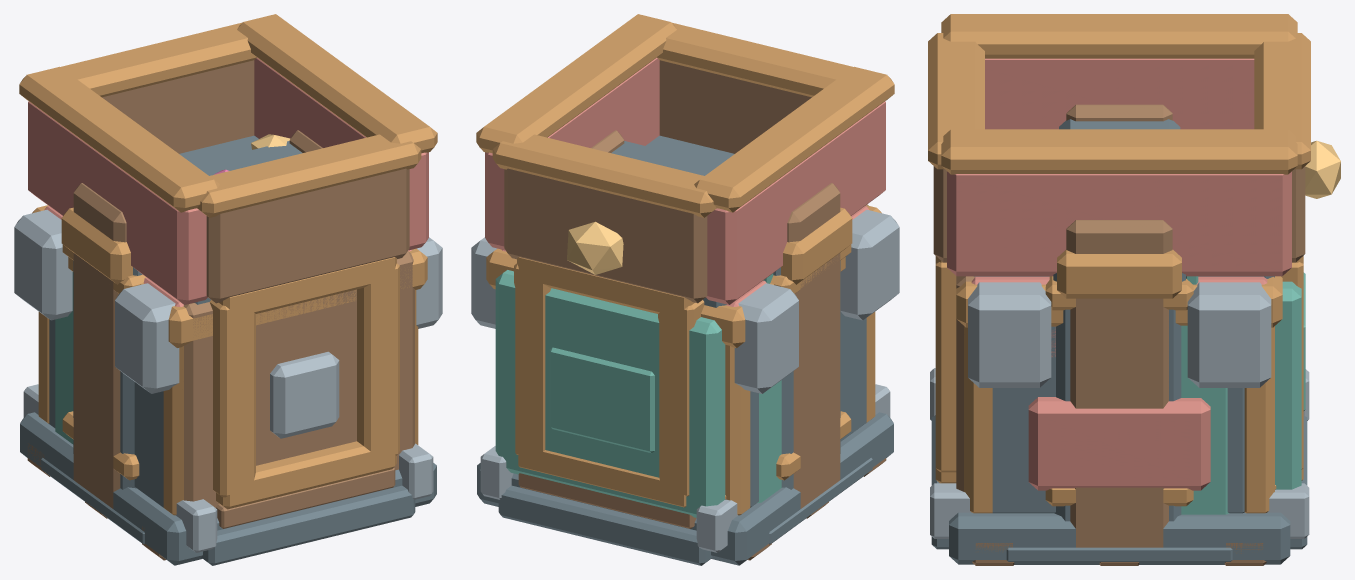
File: sandbox-machinery.glb
3 renders of one model, left to right at view 1: azimuth 30°, elevation 25°; view 2: azimuth 150°, elevation 25°; view 3: azimuth 270°, elevation 25°, orthographic. The views are drawn at different scales.
Visible parts, largest first — view 1: machine_cart, machine_pipe, machine_piston, machine_gate, machine_conveyor, machine_lamp, machine_furnace, machine_head, machine_portal, machine_note; view 2: machine_cart, machine_piston, machine_pipe, machine_gate, machine_conveyor, machine_dispenser, machine_lamp, machine_portal, machine_note, machine_furnace, machine_head; view 3: machine_cart, machine_gate, machine_furnace, machine_sorter, machine_lamp, machine_portal, machine_piston, machine_pipe, machine_conveyor, machine_note, machine_head, machine_hopper (+1 smaller).
Part boxes in pixels (left/top/right/bottom): machine_cart: left=14, top=14, right=442, bottom=393; machine_pipe: left=209, top=257, right=399, bottom=509; machine_piston: left=183, top=251, right=414, bottom=507; machine_gate: left=61, top=130, right=322, bottom=508; machine_conveyor: left=23, top=384, right=433, bottom=565; machine_lamp: left=30, top=205, right=427, bottom=520; machine_furnace: left=24, top=134, right=290, bottom=555; machine_head: left=55, top=272, right=339, bottom=444; machine_portal: left=41, top=141, right=302, bottom=544; machine_note: left=20, top=412, right=436, bottom=565; machine_cart: left=471, top=14, right=899, bottom=393; machine_piston: left=495, top=204, right=868, bottom=517; machine_pipe: left=514, top=257, right=704, bottom=507; machine_gate: left=591, top=130, right=852, bottom=508; machine_conveyor: left=480, top=384, right=890, bottom=565; machine_dispenser: left=549, top=347, right=654, bottom=453; machine_lamp: left=486, top=205, right=883, bottom=520; machine_portal: left=611, top=141, right=872, bottom=544; machine_note: left=477, top=412, right=893, bottom=565; machine_furnace: left=750, top=312, right=882, bottom=507; machine_head: left=757, top=380, right=781, bottom=502; machine_cart: left=928, top=14, right=1340, bottom=387; machine_gate: left=1057, top=104, right=1181, bottom=547; machine_furnace: left=968, top=326, right=1271, bottom=564; machine_sorter: left=1028, top=397, right=1210, bottom=490; machine_lamp: left=956, top=276, right=1282, bottom=515; machine_portal: left=1006, top=119, right=1232, bottom=564; machine_piston: left=956, top=276, right=1301, bottom=491; machine_pipe: left=935, top=256, right=1303, bottom=483; machine_conveyor: left=930, top=368, right=1309, bottom=549; machine_note: left=949, top=512, right=1290, bottom=564; machine_head: left=1181, top=325, right=1228, bottom=514; machine_hopper: left=971, top=276, right=1267, bottom=356.
Bounding box in the file's own units: 1 × 1.21 × 1.09.
